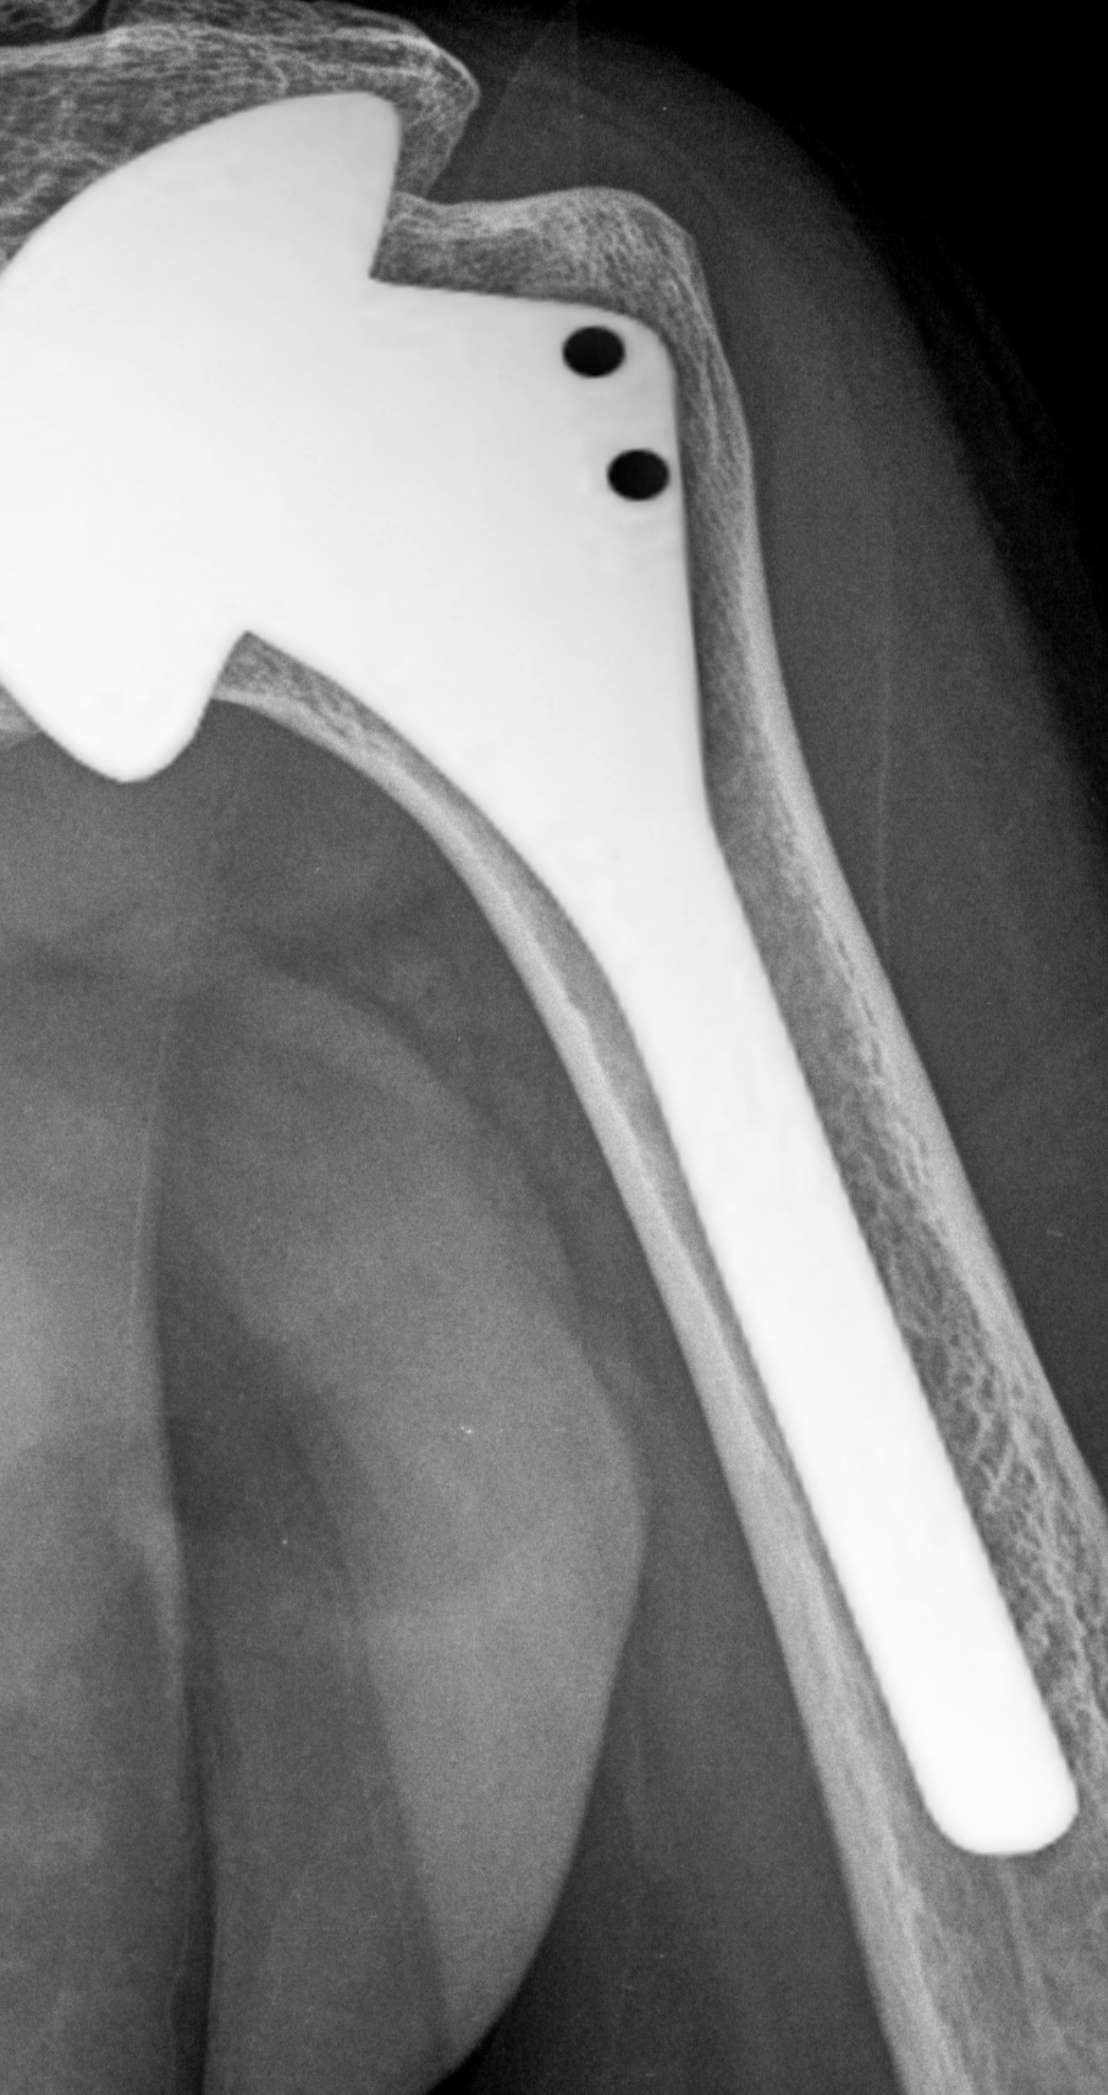Shoulder - Aequalishead - Tornier: (1, 80, 421, 793)
Shoulder - Aequalistail - Tornier: (115, 89, 769, 873)
